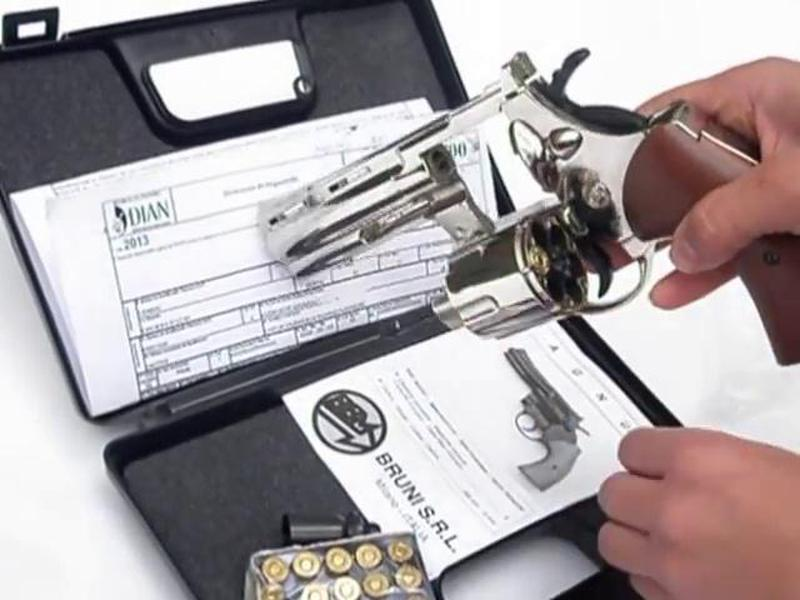Revolver: (231, 22, 800, 392)
